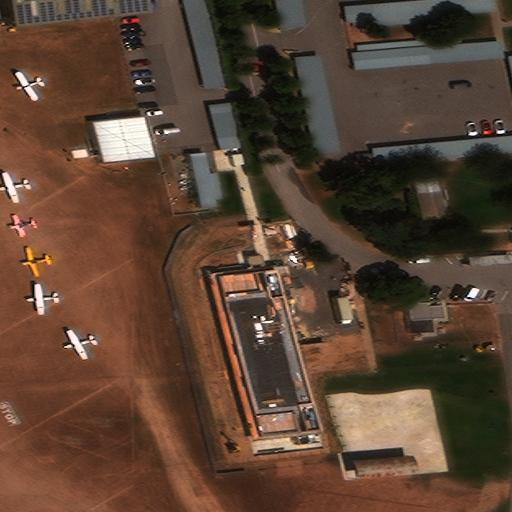Small Civil Transport: (26, 284, 60, 314), (63, 331, 96, 360), (0, 173, 31, 203), (21, 247, 51, 277), (14, 74, 44, 101), (8, 215, 37, 237)
